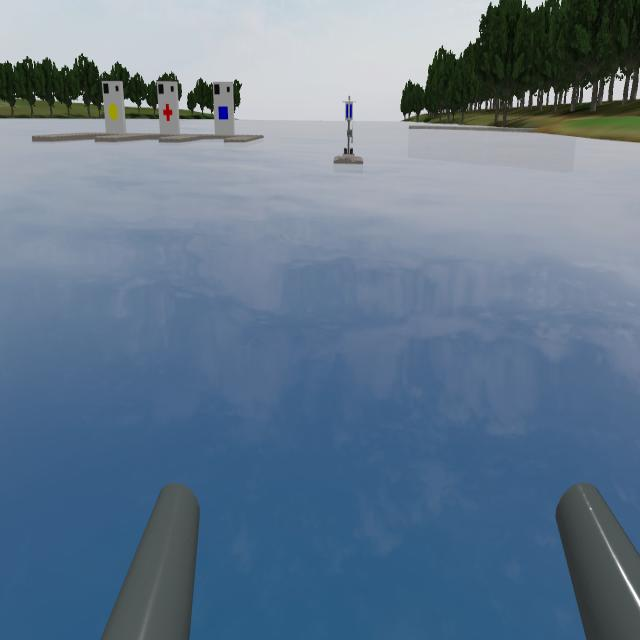blue_pole: (339, 89, 360, 131)
